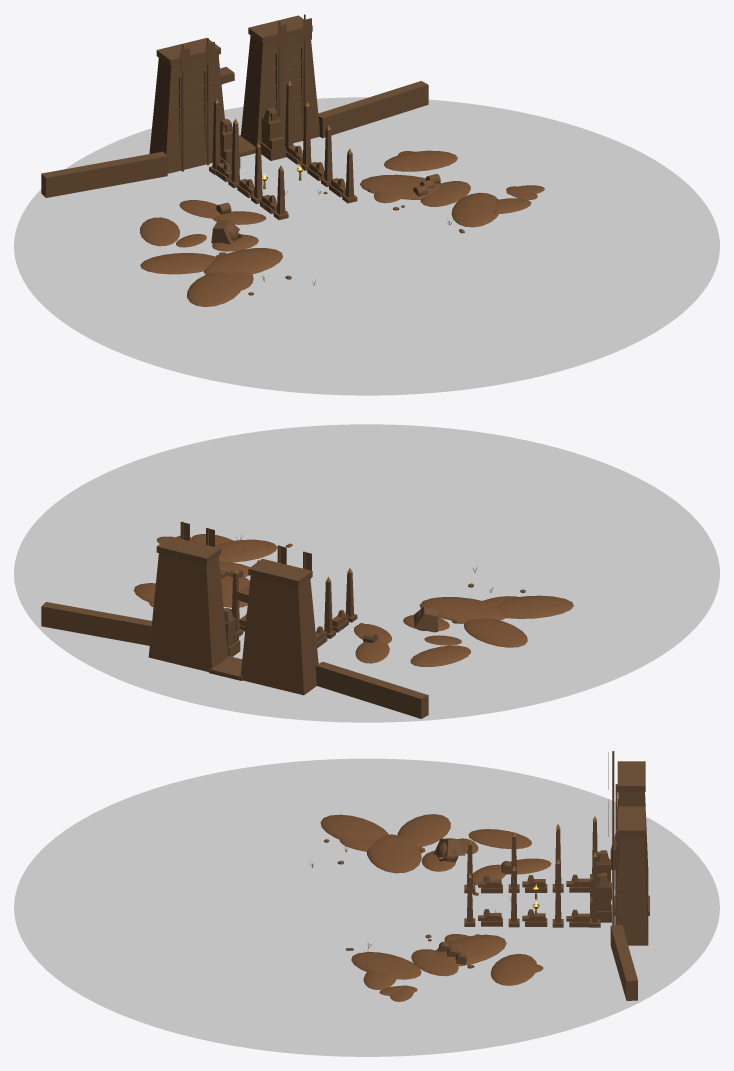
The picture shows the model from 3 angles, top to bottom: view 1: azimuth 30°, elevation 25°; view 2: azimuth 150°, elevation 25°; view 3: azimuth 270°, elevation 25°; orthographic projection.
Visible parts, largest first — view 1: sol, decor; view 2: sol, decor; view 3: sol, decor.
Boxes of the visible parts, left/top/right/bottom form: sol: left=14, top=97, right=719, bottom=395; decor: left=41, top=14, right=544, bottom=306; sol: left=14, top=424, right=719, bottom=722; decor: left=41, top=521, right=573, bottom=718; sol: left=14, top=758, right=719, bottom=1056; decor: left=309, top=751, right=649, bottom=1001.
Bounding box in the file's own units: 96 × 19.8 × 96.
